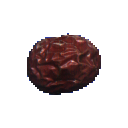gd: (17, 27, 111, 115)
